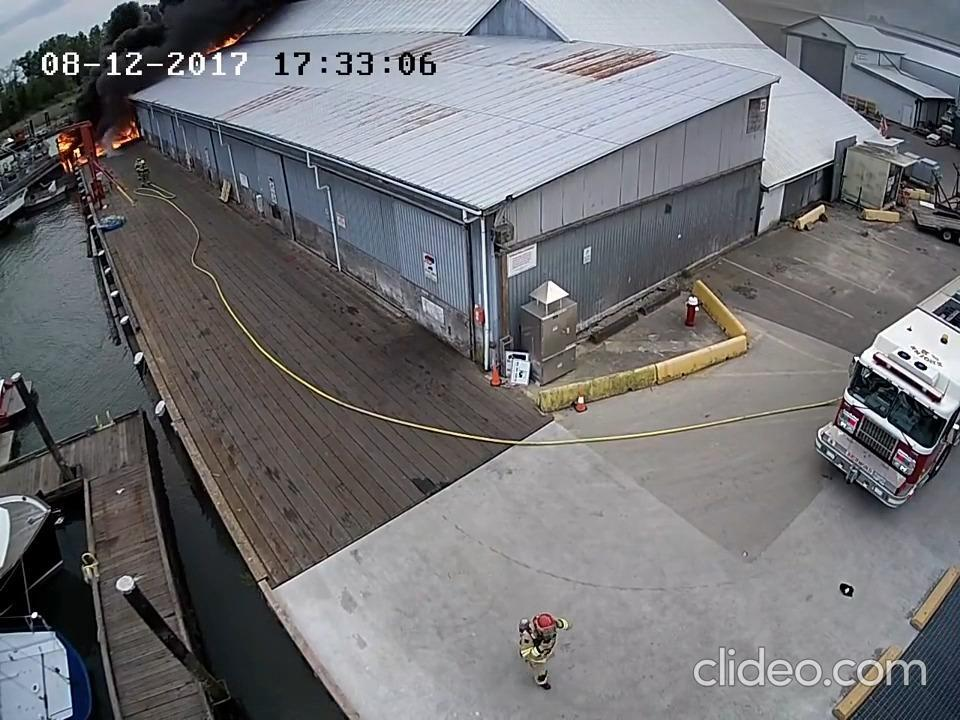fire: (96, 111, 142, 161), (50, 128, 89, 175), (204, 16, 247, 53)
